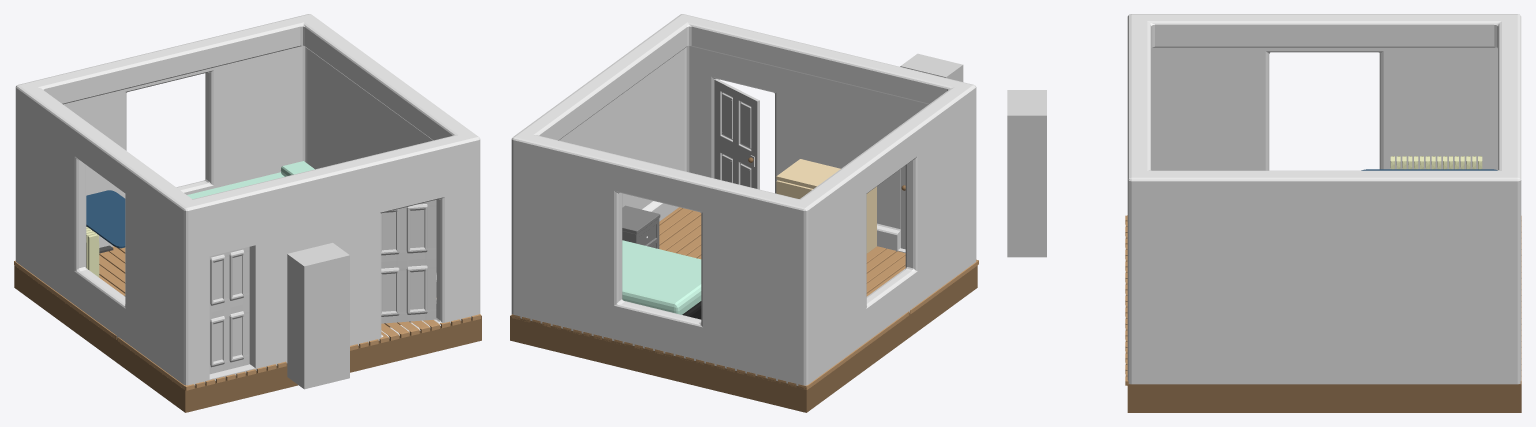
Rendered from myRoom.glb.
3 renders of one model, left to right at view 1: azimuth 30°, elevation 25°; view 2: azimuth 150°, elevation 25°; view 3: azimuth 270°, elevation 25°, orthographic. The views are drawn at different scales.
Parts seen in each view (by area): view 1: walls, base, Cube.002, Plane, Plane.001, desk, floor2, floor1, floor3, heater, bedFrame.001, floor4; view 2: walls, base, bedFrame.001, Plane, floor2, floor3, Cube, drawer.001, floor1, Cube.002, drawer, floor4 (+1 smaller); view 3: walls, base, Cube.002, heater.
Part boxes in pixels (<box>): walls: <box>15,14,480,385</box>; base: <box>14,265,481,412</box>; Cube.002: <box>287,243,349,389</box>; Plane: <box>381,200,436,323</box>; Plane.001: <box>209,247,249,374</box>; desk: <box>86,190,125,248</box>; floor2: <box>117,314,480,390</box>; floor1: <box>14,246,125,339</box>; floor3: <box>195,316,470,388</box>; heater: <box>86,226,99,277</box>; bedFrame.001: <box>187,172,284,198</box>; floor4: <box>99,247,125,293</box>; walls: <box>511,14,976,385</box>; base: <box>510,265,977,412</box>; bedFrame.001: <box>622,240,701,314</box>; Plane: <box>714,79,759,189</box>; floor2: <box>659,208,978,313</box>; floor3: <box>659,207,905,293</box>; Cube: <box>622,205,660,248</box>; drawer.001: <box>776,159,840,187</box>; floor1: <box>512,311,909,389</box>; Cube.002: <box>900,53,963,81</box>; drawer: <box>777,179,876,253</box>; floor4: <box>522,317,796,387</box>; walls: <box>1127,14,1521,384</box>; base: <box>1127,383,1521,412</box>; Cube.002: <box>1007,90,1046,257</box>; heater: <box>1390,156,1482,169</box>.
Size of the model in its own units: 5.01 by 3.27 by 6.52.
